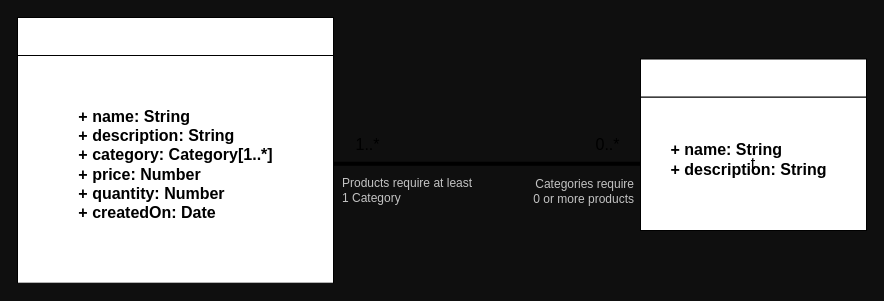
The diagram is 884 pixels wide and 301 high, and some of its shapes have lost their labels. The shapes that lost their labels are listed below. From the top down, each one's box as (x1, y1, x2, y2) in pixels, then its label:
(16, 16, 334, 56): Product
(640, 58, 866, 97): Category
